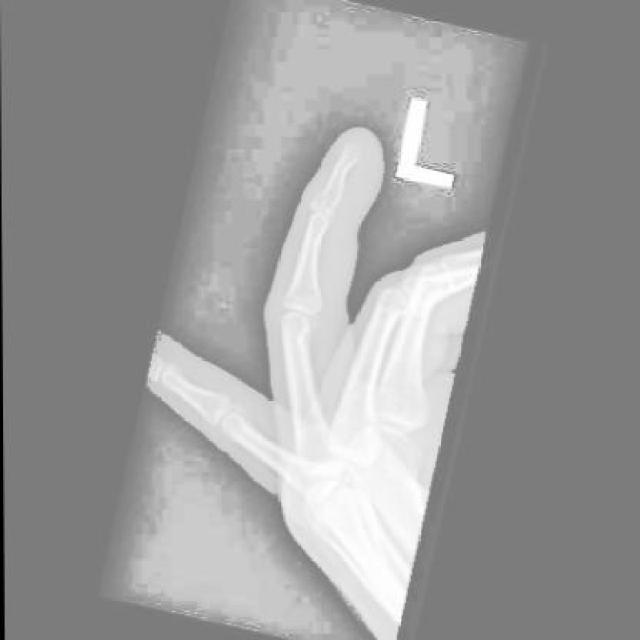Fracture: (306, 179, 344, 219)
